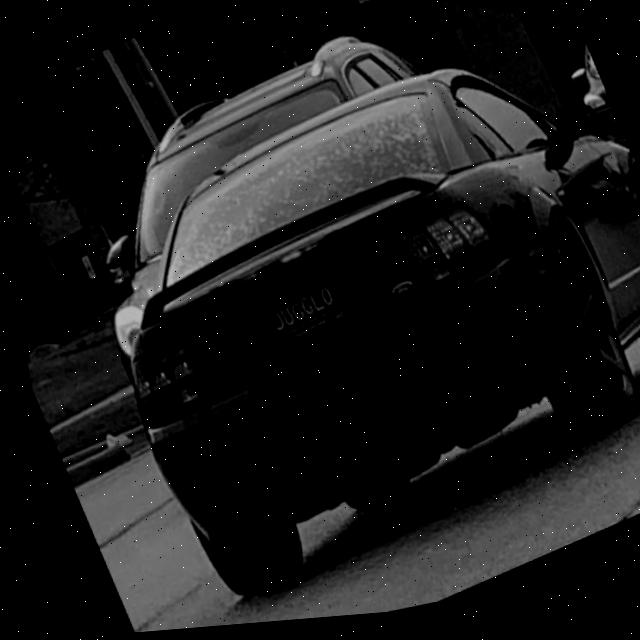LicensePlate: (256, 278, 341, 354)
